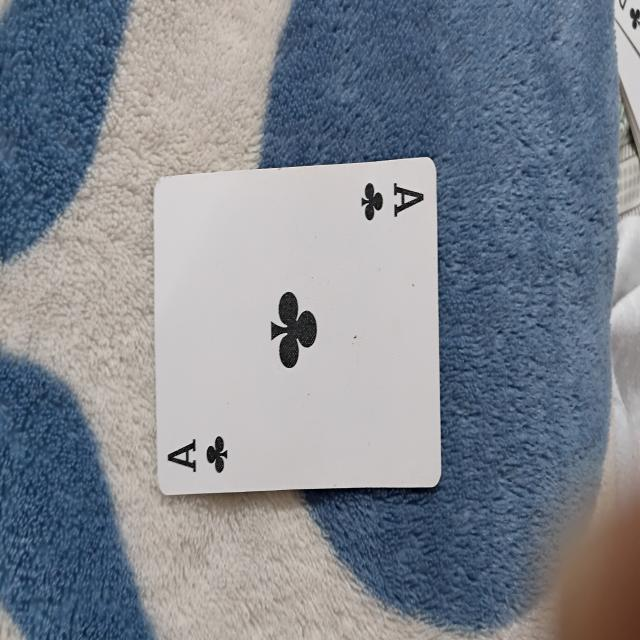AC: (153, 157, 440, 495)
